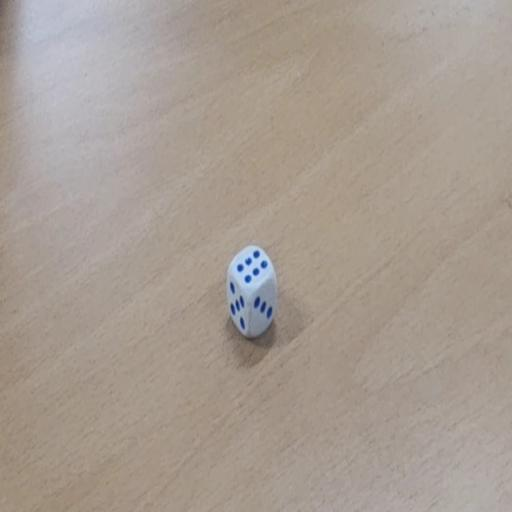dice_6: (224, 243, 278, 343)
